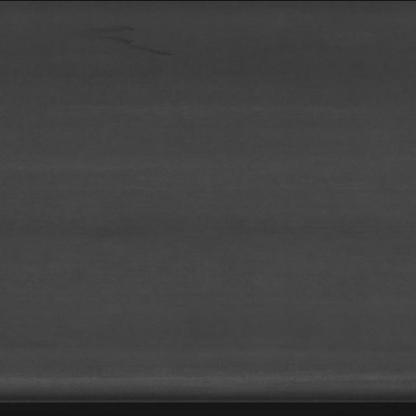water_spot: (83, 16, 178, 70)
